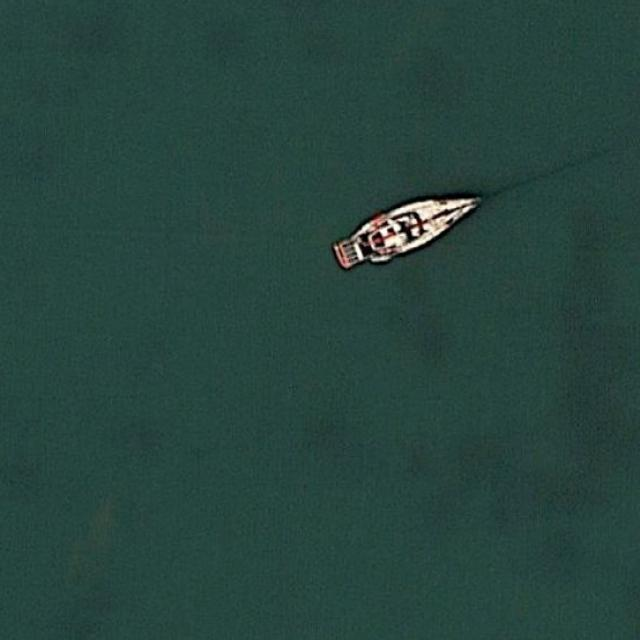ship: (330, 188, 494, 270)
